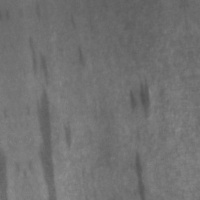inclusion: (27, 79, 62, 190), (25, 32, 51, 89), (124, 76, 154, 122), (127, 145, 147, 180), (59, 119, 77, 152), (71, 42, 89, 73)
